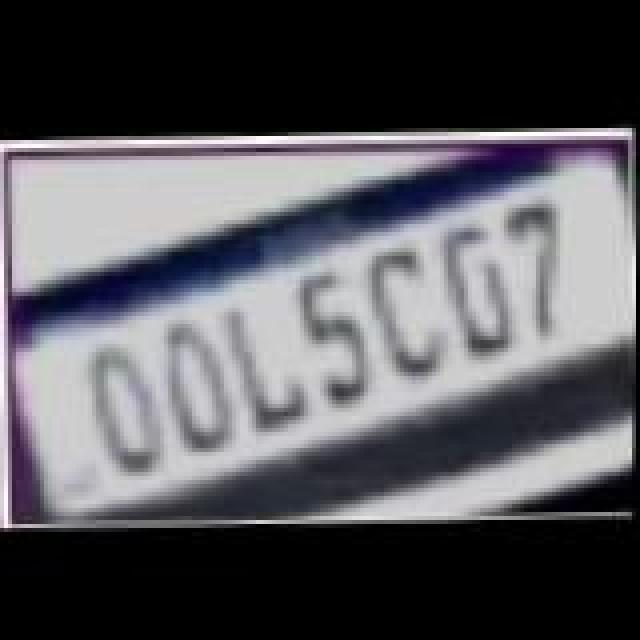5: (294, 266, 378, 406)
7: (500, 196, 576, 336)
C: (368, 242, 456, 374)
D: (436, 216, 520, 352)
L: (222, 300, 310, 432)
O: (156, 312, 240, 452), (84, 340, 168, 476)
